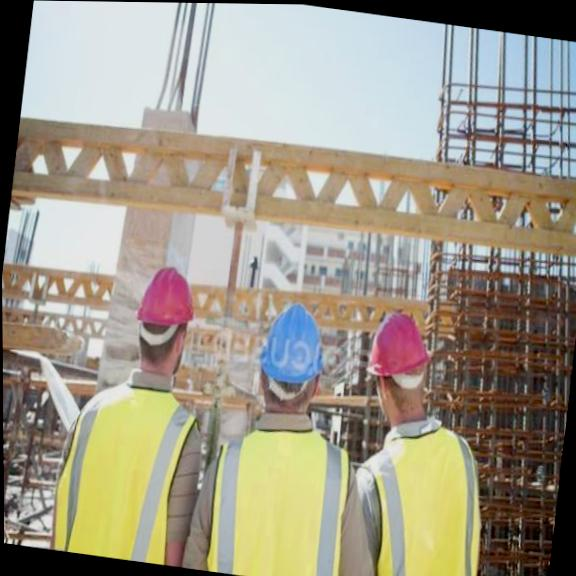safety_vest: (46, 374, 212, 554), (198, 398, 358, 576), (344, 412, 482, 576)
